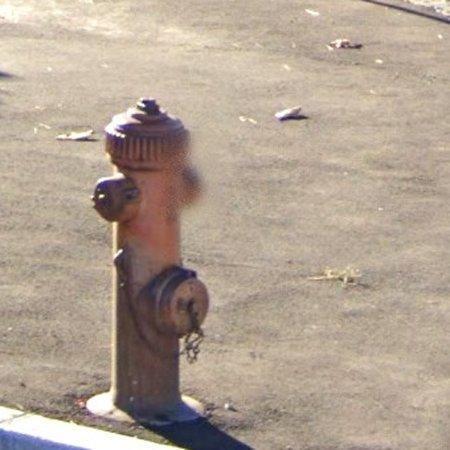a fire hydrant: (87, 98, 209, 427)
